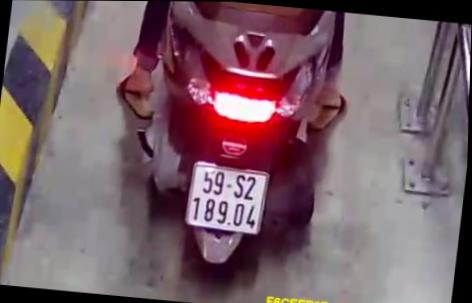LP: (184, 158, 272, 235)
